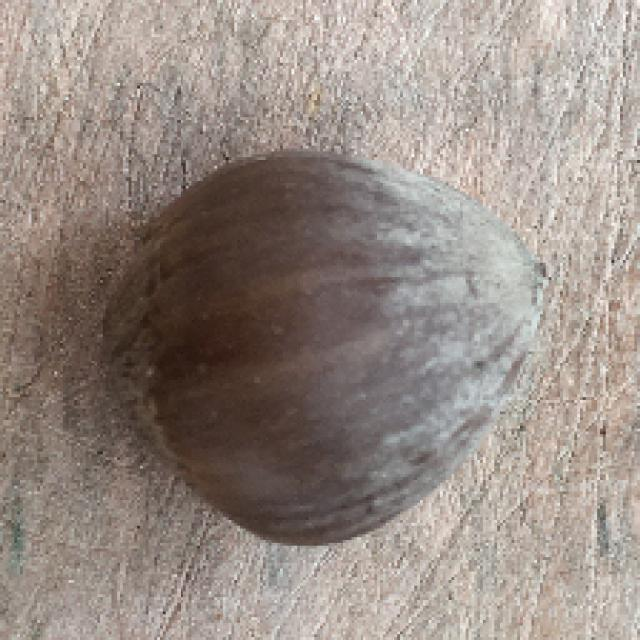damagedHazelnut: (94, 143, 551, 538)
